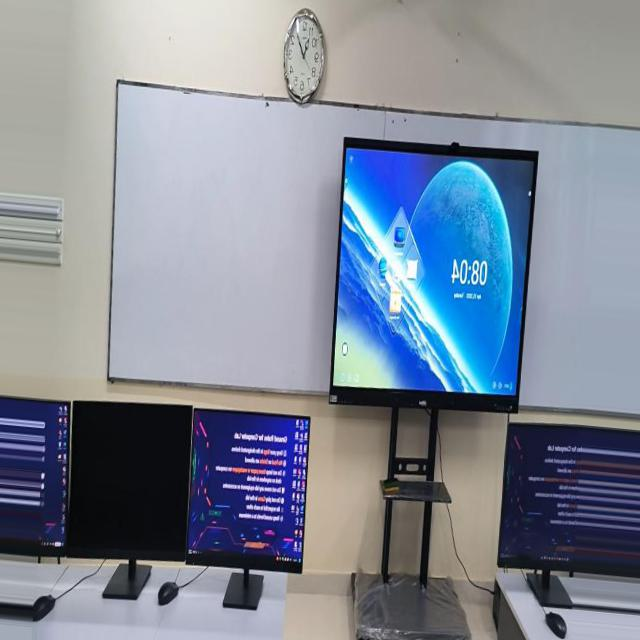Digital board: (73, 139, 304, 632)
Monitor: (463, 414, 606, 604), (323, 414, 463, 602), (0, 398, 93, 574), (606, 421, 640, 569)
Mouse: (613, 607, 640, 633), (6, 578, 32, 603), (468, 583, 492, 606)
